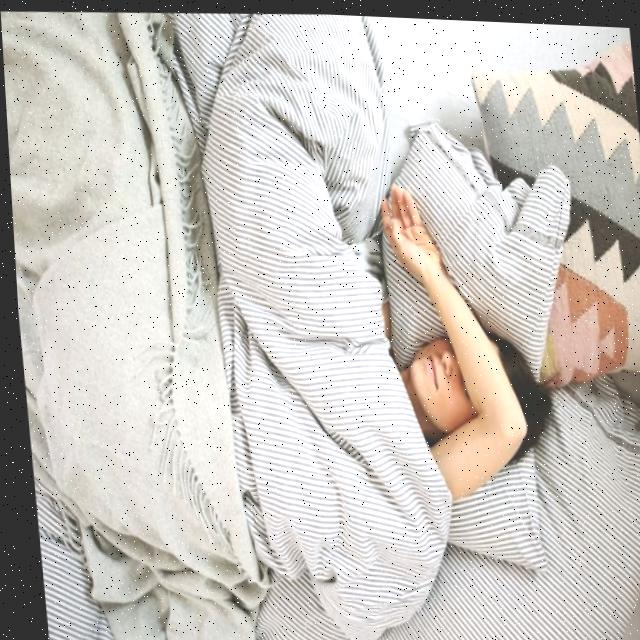sleeping-person: (3, 69, 570, 608)
